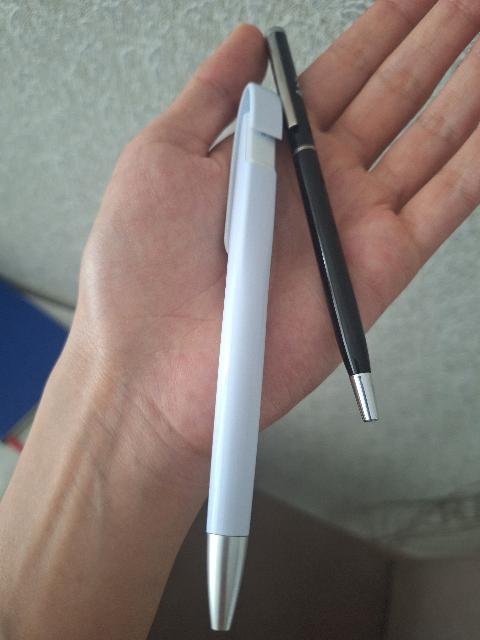writing_tool: (259, 22, 382, 423), (193, 82, 281, 636)
